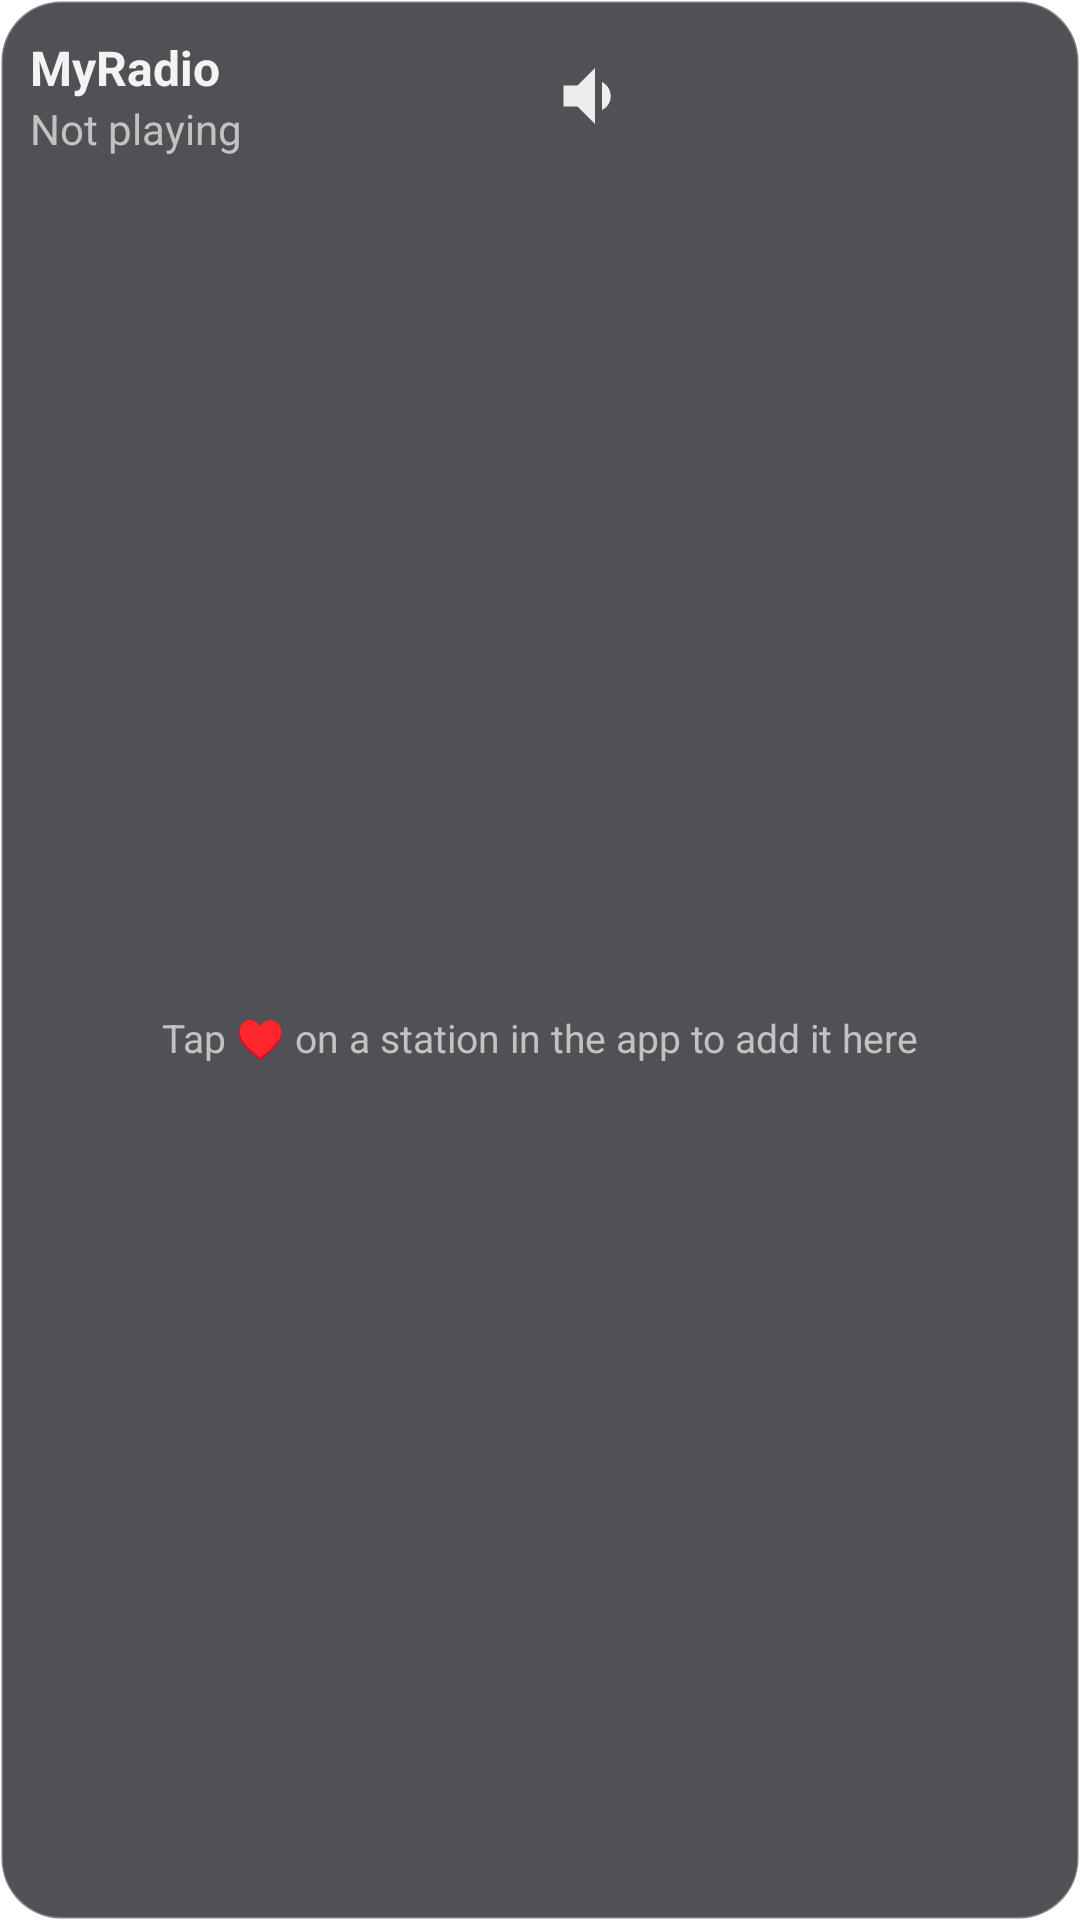

Where to tap for icons on this 1080w x 1920h app screen, as point (x, y):
Volume down: point (587, 96)
